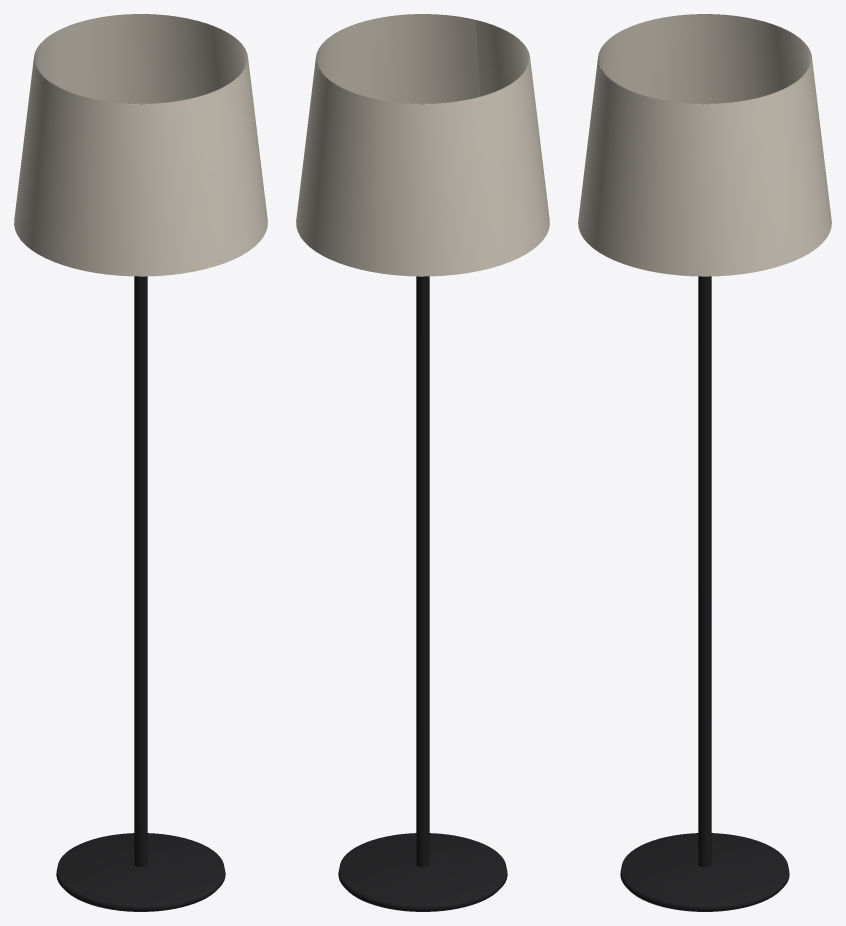
Rendered from white-linen.glb.
3 views of the same model, side by side, from view 1: azimuth 30°, elevation 25°; view 2: azimuth 150°, elevation 25°; view 3: azimuth 270°, elevation 25° (orthographic).
Parts seen in each view (by area): view 1: Shade, Base, Pole; view 2: Shade, Base, Pole; view 3: Shade, Base, Pole.
Part boxes in pixels (box(x1,y1,x2,y2)): Shade: box(14, 14, 267, 276); Base: box(56, 833, 225, 911); Pole: box(134, 276, 147, 867); Shade: box(296, 14, 549, 276); Base: box(338, 833, 507, 911); Pole: box(416, 276, 429, 867); Shade: box(578, 14, 831, 276); Base: box(620, 833, 789, 911); Pole: box(698, 276, 711, 867).
Size of the model in its own units: 0.45 by 1.6 by 0.45.
